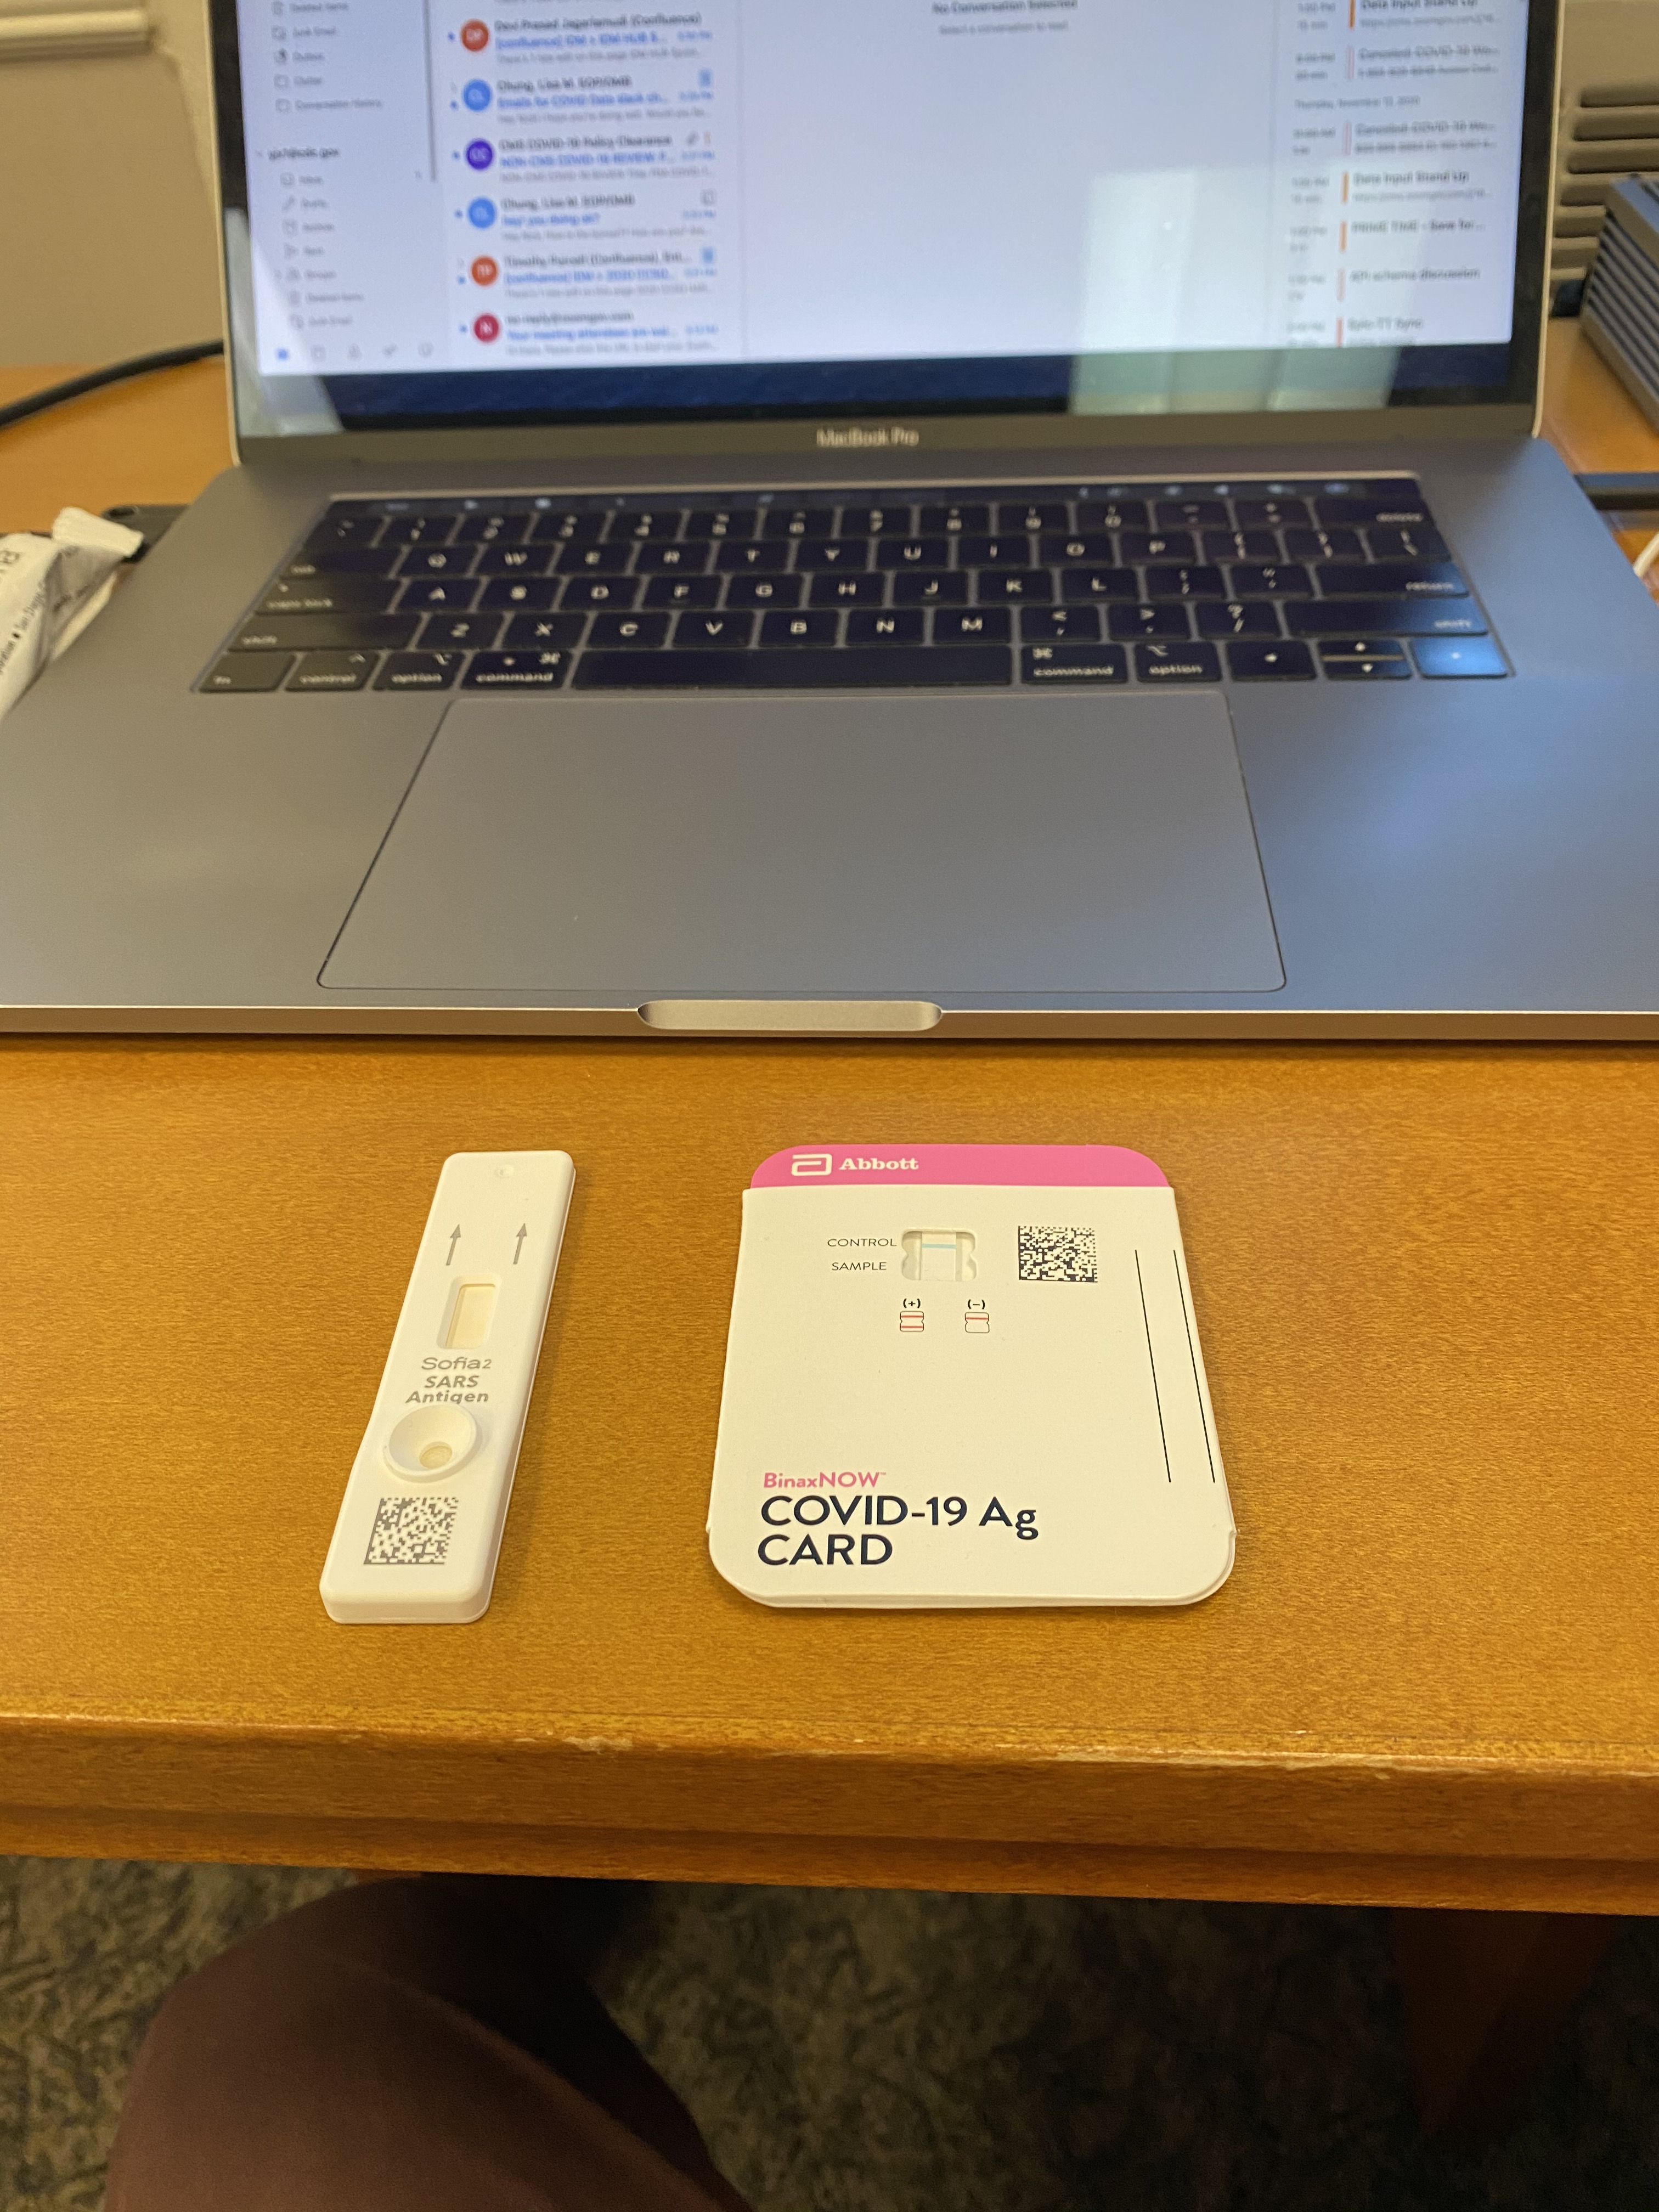binax: (699, 1137, 1244, 1620)
quidel: (319, 1144, 587, 1629)
